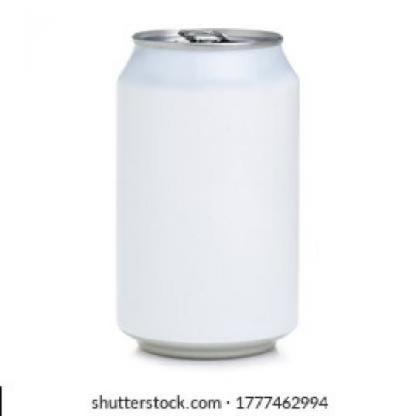Can: (102, 21, 312, 373)
